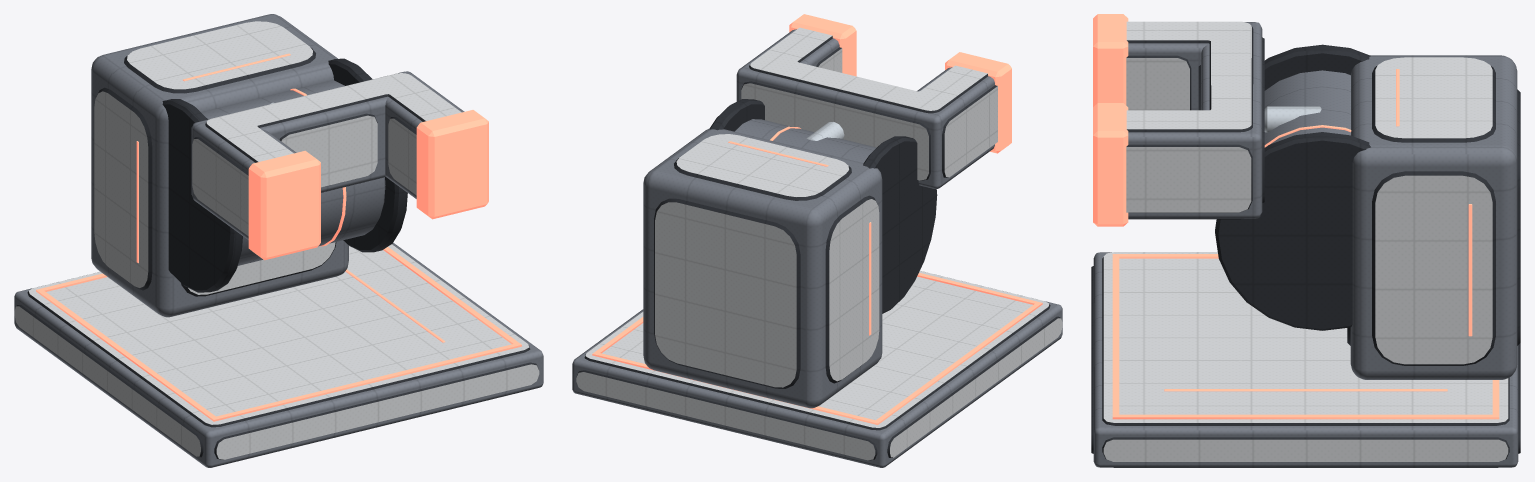
File: R4X_MagneticGrapple.glb
The picture shows the model from 3 angles, left to right: view 1: azimuth 30°, elevation 25°; view 2: azimuth 150°, elevation 25°; view 3: azimuth 270°, elevation 25°; orthographic projection. The views are drawn at different scales.
Parts seen in each view (by area): view 1: R4X_MagneticGrapple_Body; view 2: R4X_MagneticGrapple_Body; view 3: R4X_MagneticGrapple_Body.
Boxes of the visible parts, <box> form: R4X_MagneticGrapple_Body: <box>14,14,543,467</box>; R4X_MagneticGrapple_Body: <box>572,14,1062,467</box>; R4X_MagneticGrapple_Body: <box>1091,14,1520,467</box>.
Size of the model in its own units: 0.52 by 0.414 by 0.52.
Materials: 5 (4 with a texture image).
